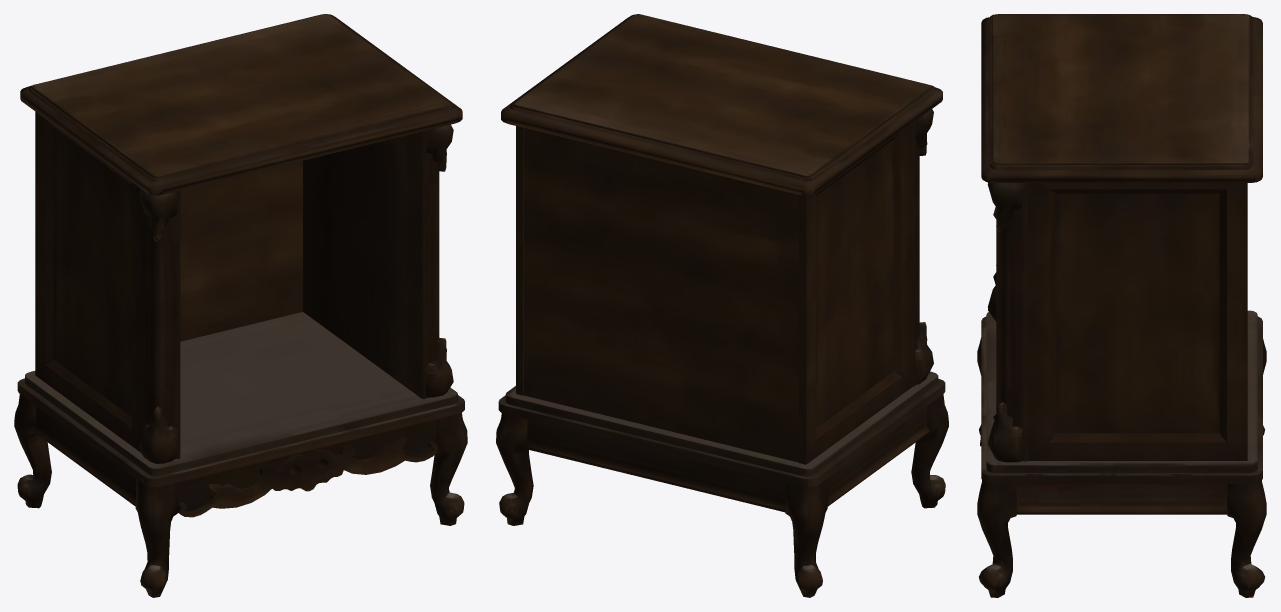
File: tvStand.glb
The picture shows the model from 3 angles, left to right: view 1: azimuth 30°, elevation 25°; view 2: azimuth 150°, elevation 25°; view 3: azimuth 270°, elevation 25°; orthographic projection. The views are drawn at different scales.
Visible parts, largest first — view 1: ClassicNightstand_01; view 2: ClassicNightstand_01; view 3: ClassicNightstand_01.
Boxes of the visible parts, box(x1,y1,x2,y2) form: ClassicNightstand_01: box(14, 14, 467, 597); ClassicNightstand_01: box(496, 14, 948, 597); ClassicNightstand_01: box(977, 14, 1266, 597).
Size of the model in its own units: 0.5678 by 0.7 by 0.4242.
Materials: 1 (1 with a texture image).
